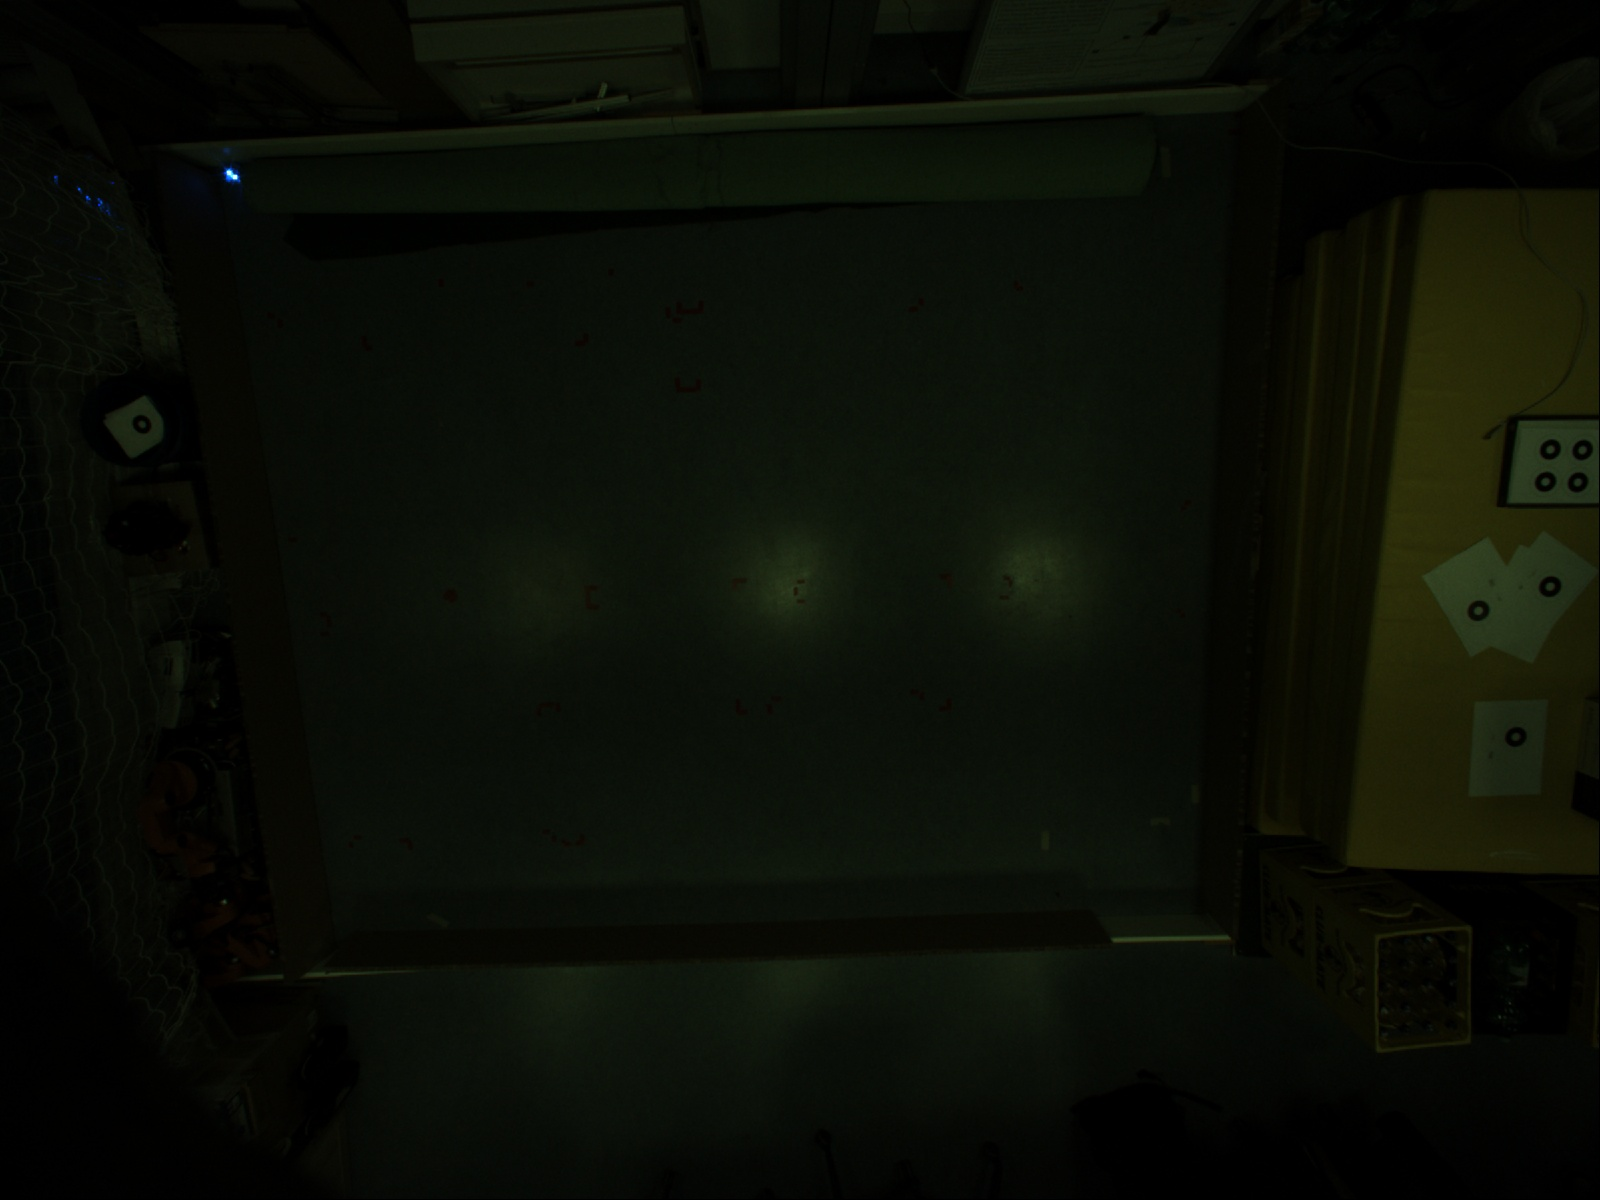sphero: (219, 163, 246, 188)
